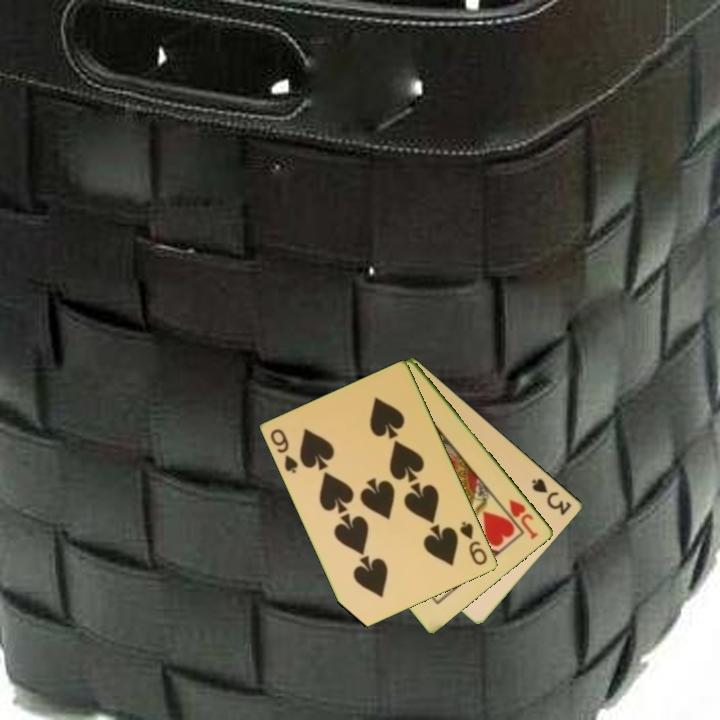3s: (529, 474, 575, 518)
9s: (456, 518, 491, 568), (267, 425, 301, 476)
Jh: (506, 496, 542, 542)
